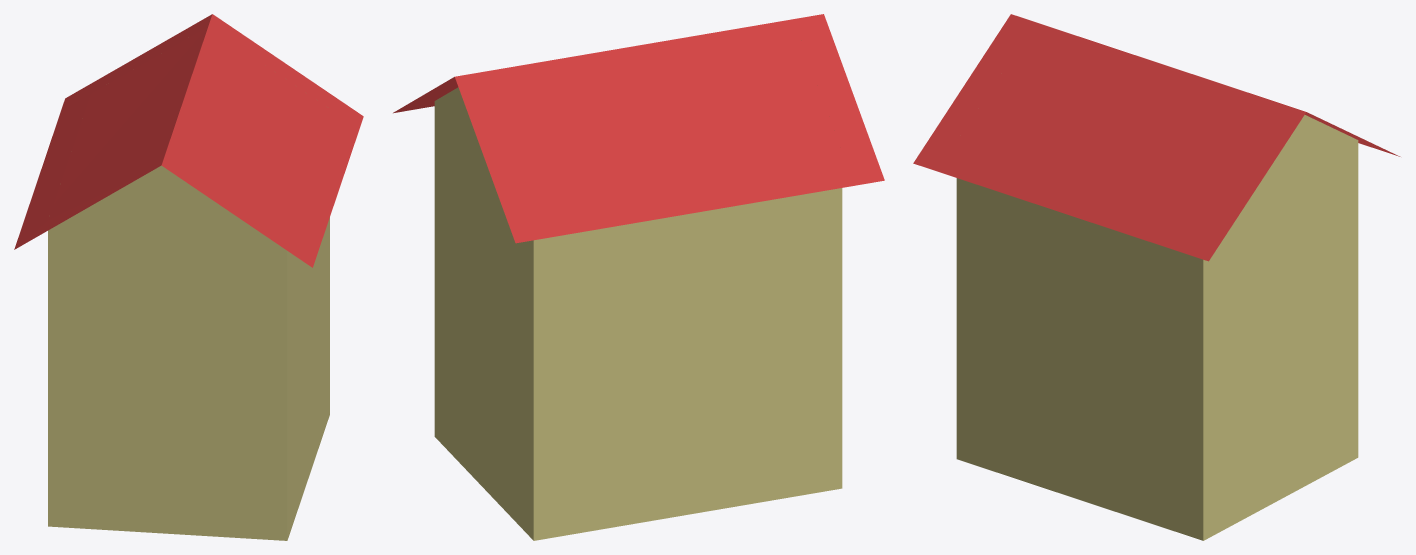
3 renders of one model, left to right at view 1: azimuth 30°, elevation 25°; view 2: azimuth 150°, elevation 25°; view 3: azimuth 270°, elevation 25°, orthographic. The views are drawn at different scales.
Size of the model in its own units: 7.72 by 7.89 by 7.03.
